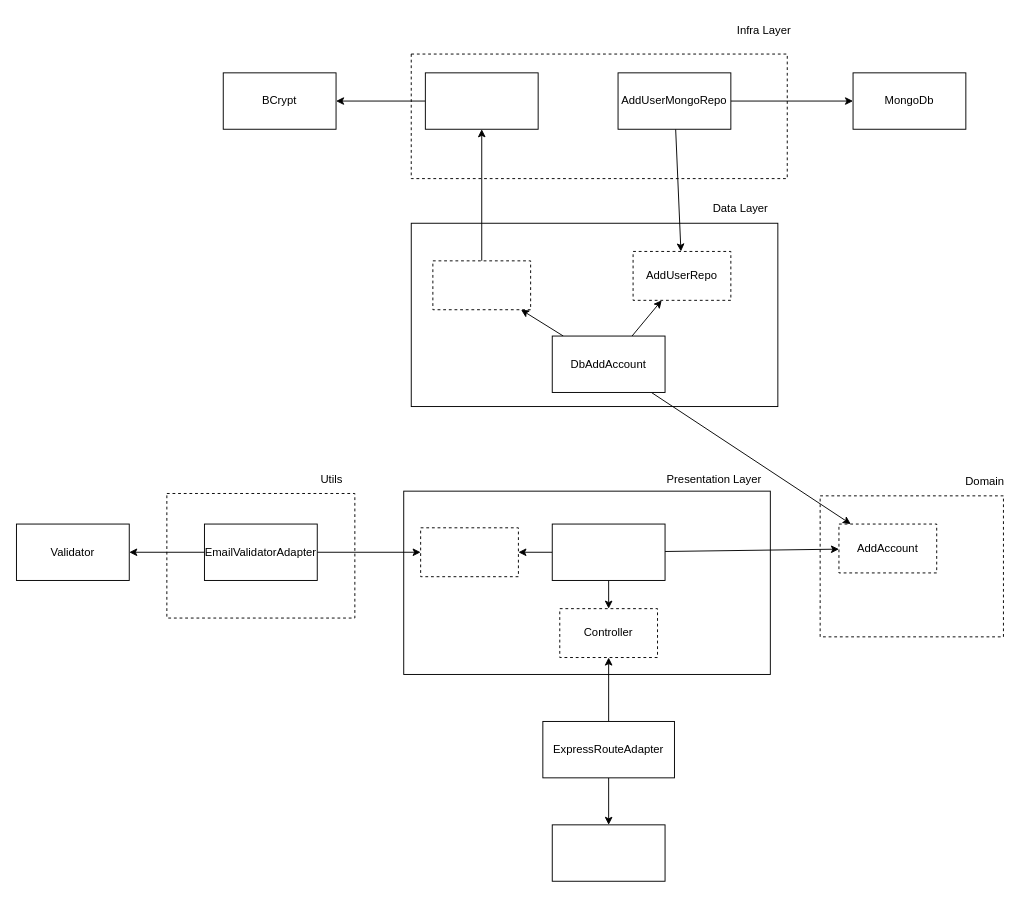
This 1029x898 diagram has some shape labels left out. Each missing label, with the box of its shape:
BcryptAdapter: (424, 72, 538, 129)
EmailValidator: (420, 527, 518, 577)
Encrypter: (432, 260, 531, 310)
Express: (551, 824, 665, 881)
SignUpController: (551, 523, 665, 580)
